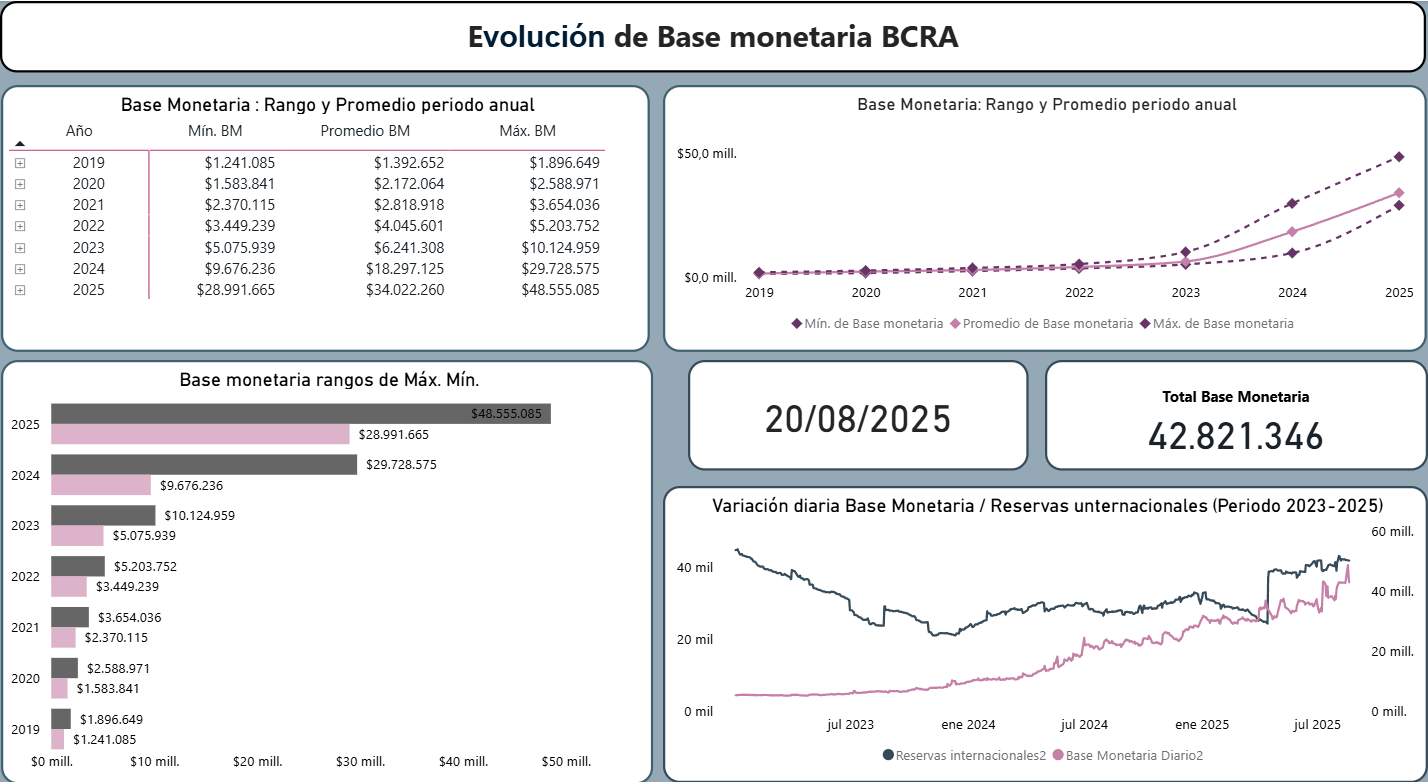

What the dashboard file says about the page in this screenshot:
{"tool":"powerbi","page":{"name":"reporte BM","canvas":[1280,720],"ordinal":0},"visuals":[{"type":"pivotTable","title":"Base Monetaria : Rango y Promedio periodo  anual  \n","fields":{"Rows":["PrincipalesVariables.Fecha.Variación.Jerarquía de fechas.Año","PrincipalesVariables.Fecha.Variación.Jerarquía de fechas.Trimestre","PrincipalesVariables.Fecha.Variación.Jerarquía de fechas.Mes","PrincipalesVariables.Fecha.Variación.Jerarquía de fechas.Día"],"Values":["Min(PrincipalesVariables.Base monetaria)","Avg(PrincipalesVariables.Base monetaria)","Max(PrincipalesVariables.Base monetaria)"]},"box":[2.7,75.2,581.2,239.1],"z":0},{"type":"lineChart","title":"Base Monetaria: Rango y Promedio periodo anual \n","fields":{"Category":["PrincipalesVariables.Fecha.Variación.Jerarquía de fechas.Año","PrincipalesVariables.Fecha.Variación.Jerarquía de fechas.Trimestre","PrincipalesVariables.Fecha.Variación.Jerarquía de fechas.Mes","PrincipalesVariables.Fecha.Variación.Jerarquía de fechas.Día"],"Y":["Min(PrincipalesVariables.Base monetaria)","Avg(PrincipalesVariables.Base monetaria)","Max(PrincipalesVariables.Base monetaria)"]},"box":[595.5,75.2,684.2,239.1],"z":1000},{"type":"clusteredBarChart","title":"Base monetaria rangos de  Máx.  Mín. ","fields":{"Category":["PrincipalesVariables.Fecha.Variación.Jerarquía de fechas.Año","PrincipalesVariables.Fecha.Variación.Jerarquía de fechas.Trimestre","PrincipalesVariables.Fecha.Variación.Jerarquía de fechas.Mes","PrincipalesVariables.Fecha.Variación.Jerarquía de fechas.Día"],"Y":["Max(PrincipalesVariables.Base monetaria)","Min(PrincipalesVariables.Base monetaria)"]},"box":[2.7,321.5,583.9,379.7],"z":2000},{"type":"cardVisual","title":"\nBase Monetaria Total   20/08/2025","fields":{"Data":["TablaBMRI.Base Monetaria Último Día"]},"box":[937.3,321.8,342.7,99.1],"z":3000},{"type":"textbox","box":[1.8,0,1277,64.5],"z":4000},{"type":"card","fields":{"Values":["TablaBMRI.Fecha Último Día"]},"box":[618.2,321.8,304.5,99.1],"z":5000},{"type":"lineChart","title":"Variación  diaria  Base Monetaria / Reservas unternacionales  (Periodo 2023-2025)","fields":{"Category":["TablaBMRI.Fecha"],"Y2":["TablaBMRI.Base Monetaria Diario2"],"Y":["TablaBMRI.Reservas internacionales2"]},"box":[595.5,434.5,684.5,266.4],"z":6000}]}

Visuals, with their boxes in screenshot pixels (x1, y1, x2, y2), scaled from the page's 1280x720 canvas onto the 1428x782 screenshot:
"Base Monetaria : Rango y Promedio periodo  anual  
" pivotTable: (3, 82, 651, 341)
"Base Monetaria: Rango y Promedio periodo anual 
" lineChart: (664, 82, 1427, 341)
"Base monetaria rangos de  Máx.  Mín. " clusteredBarChart: (3, 349, 654, 762)
"
Base Monetaria Total   20/08/2025" cardVisual: (1046, 350, 1427, 457)
textbox: (2, 0, 1427, 70)
card - TablaBMRI.Fecha Último Día: (690, 350, 1029, 457)
"Variación  diaria  Base Monetaria / Reservas unternacionales  (Periodo 2023-2025)" lineChart: (664, 472, 1427, 761)
